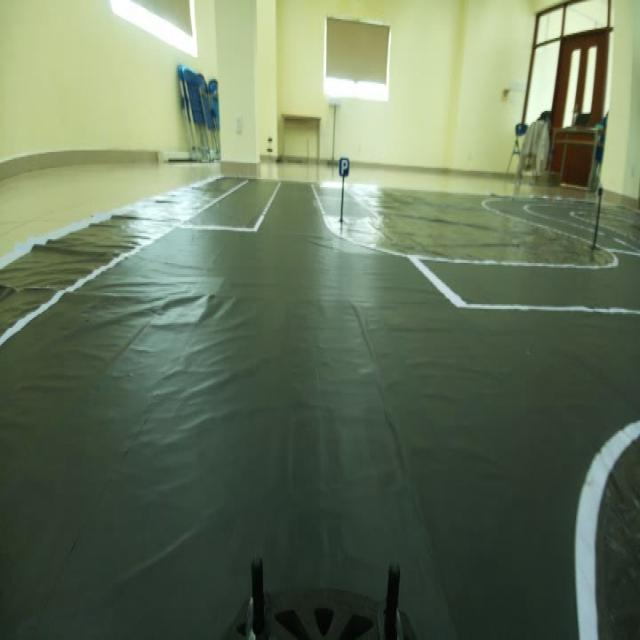parking: (330, 151, 354, 183)
